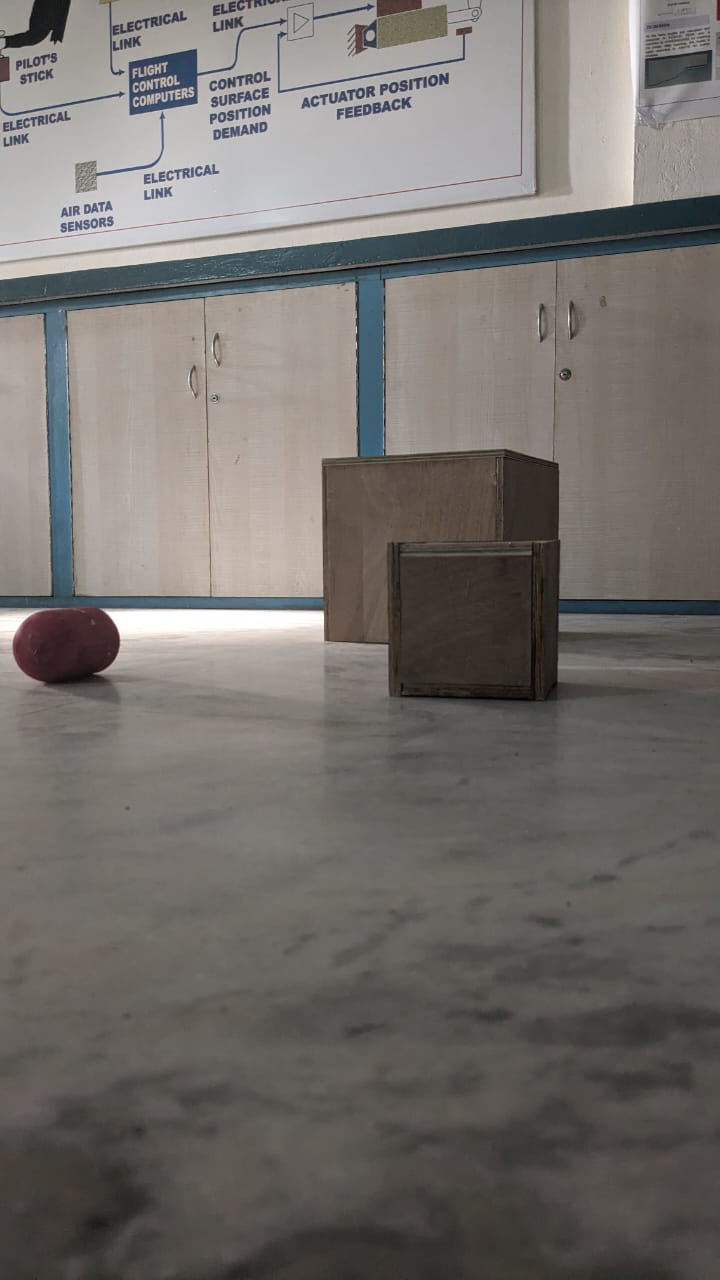150mm obstacle: (382, 535, 565, 716)
testtube: (9, 573, 142, 695)
